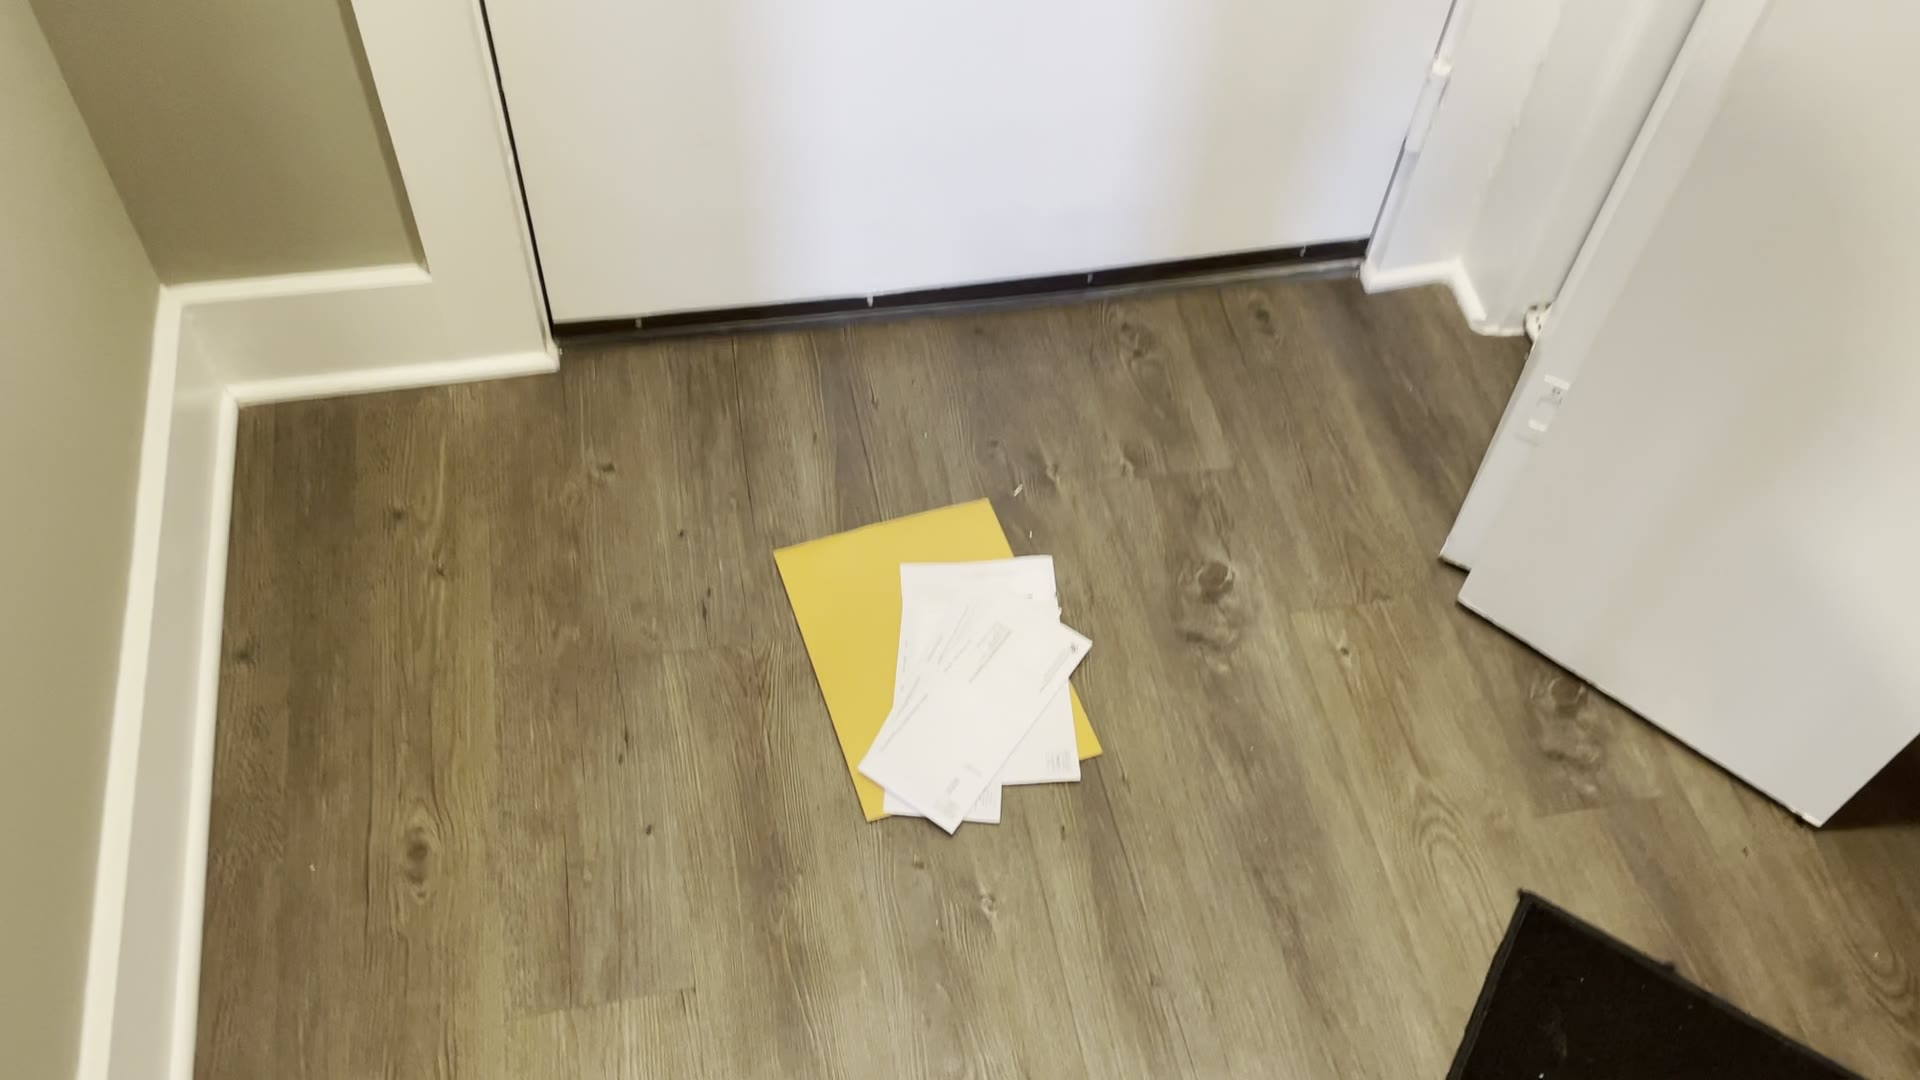envelope: (765, 485, 1112, 841)
